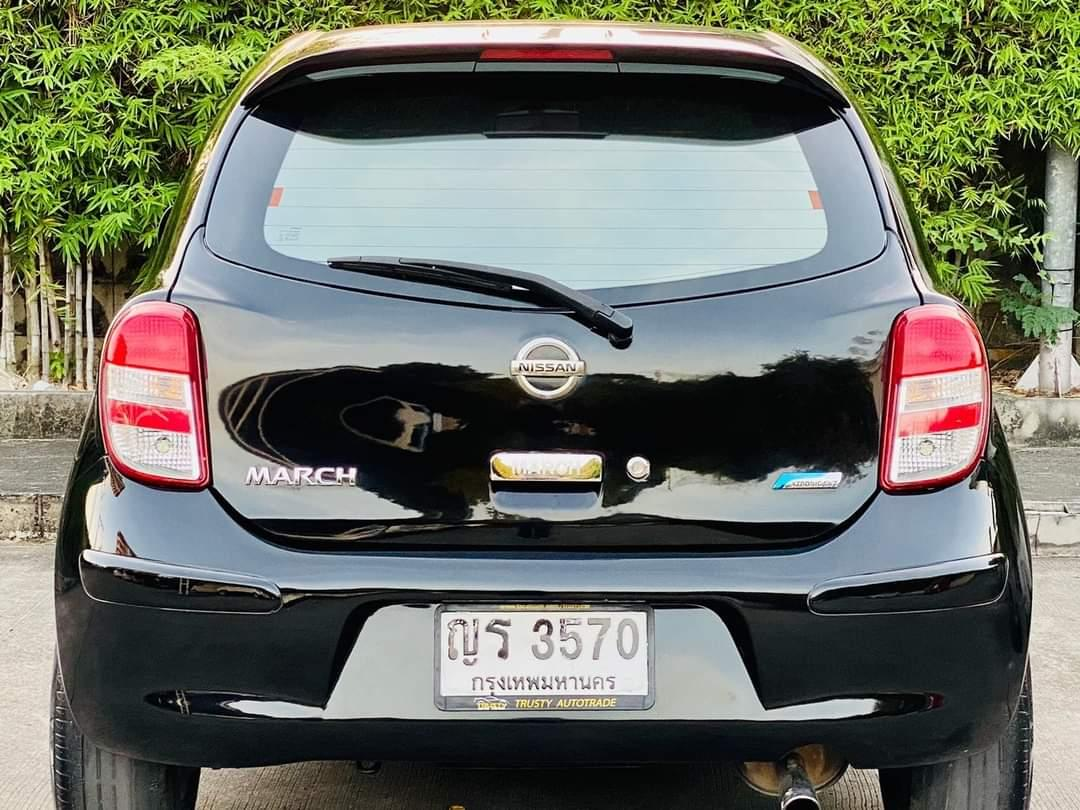license-plate: (432, 596, 655, 715)
